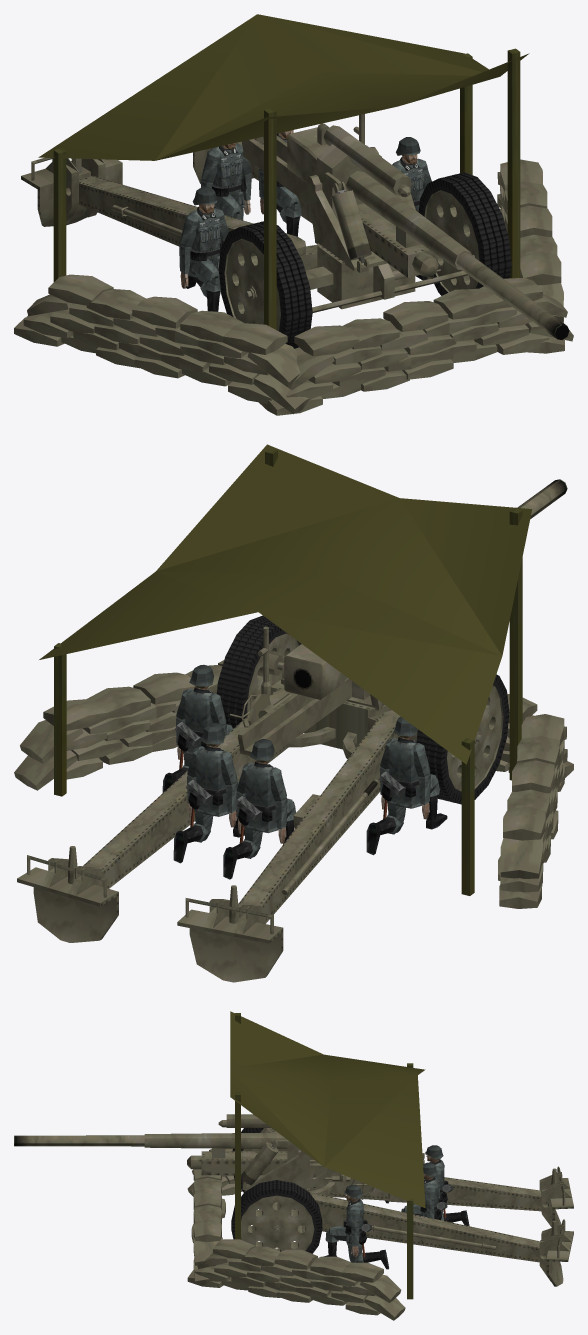
The model's file is GER10sK18_Stationary.dae.
3 renders of one model, top to bottom at view 1: azimuth 30°, elevation 25°; view 2: azimuth 150°, elevation 25°; view 3: azimuth 270°, elevation 25°, orthographic. The views are drawn at different scales.
Visible parts, largest first — view 1: base, wheels, sleeve, barrel, trail2, carriage, spade2, turret, cylinder1, torso2, torso4, torso1; view 2: base, trail2, wheels, spade2, trail1, spade1, sleeve, barrel, torso2, torso4, torso3, carriage (+2 smaller); view 3: base, trail1, wheels, barrel, trail2, sleeve, turret, spade1, spade2, cylinder1, torso1, torso3.
Part boxes in pixels (x1,y1,x2,y2): base: (14, 14, 573, 415); wheels: (218, 172, 511, 348); sleeve: (242, 125, 438, 277); barrel: (287, 123, 569, 339); trail2: (79, 175, 305, 255); carriage: (300, 243, 468, 312); spade2: (21, 157, 122, 226); turret: (307, 114, 387, 272); cylinder1: (331, 187, 415, 263); torso2: (188, 206, 222, 277); torso4: (211, 145, 246, 208); torso1: (392, 157, 424, 211); base: (14, 444, 573, 908); trail2: (229, 710, 400, 923); wheels: (216, 615, 509, 804); spade2: (177, 885, 283, 982); trail1: (83, 686, 335, 888); spade1: (17, 846, 118, 942); sleeve: (238, 678, 369, 755); barrel: (284, 479, 567, 699); torso2: (378, 736, 421, 819); torso4: (235, 761, 278, 843); torso3: (185, 745, 228, 827); carriage: (270, 680, 417, 749); base: (187, 1011, 425, 1320); trail1: (301, 1192, 546, 1262); wheels: (231, 1128, 322, 1253); barrel: (14, 1133, 287, 1148); trail2: (306, 1175, 547, 1211); sleeve: (187, 1114, 424, 1175); turret: (242, 1149, 375, 1195); spade1: (539, 1219, 573, 1286); spade2: (539, 1166, 573, 1227); cylinder1: (241, 1128, 278, 1185); torso1: (343, 1198, 372, 1257); torso3: (420, 1176, 447, 1219).
Size of the model in its own units: 51.33 by 71.61 by 28.29.
